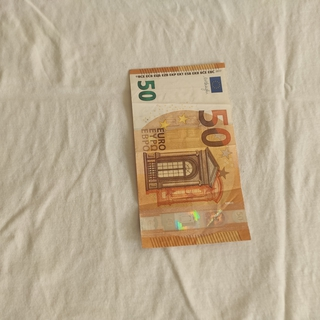50EUROFront: (127, 61, 251, 249)
